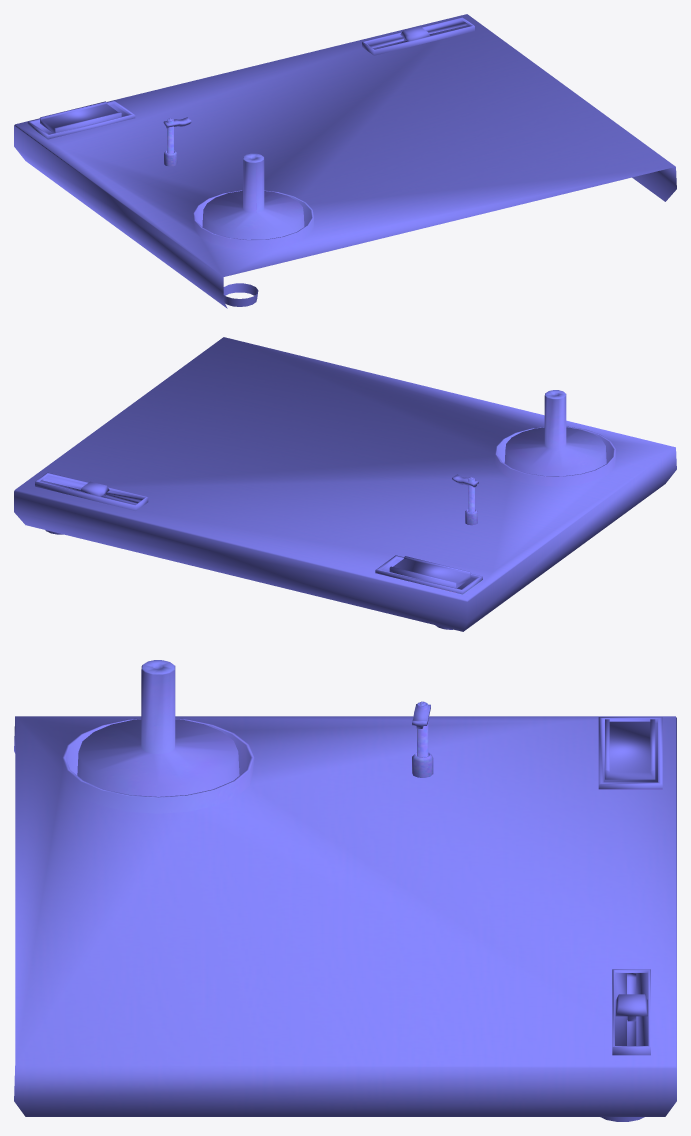
Rendered from RecordBase.fbx.
3 renders of one model, top to bottom at view 1: azimuth 30°, elevation 25°; view 2: azimuth 150°, elevation 25°; view 3: azimuth 270°, elevation 25°, orthographic. The views are drawn at different scales.
Parts seen in each view (by area): view 1: MappedRecordP; view 2: MappedRecordP; view 3: MappedRecordP.
Boxes of the visible parts, x1,y1,x2,y2 form: MappedRecordP: (14,14,676,308); MappedRecordP: (14,337,676,631); MappedRecordP: (14,660,676,1121).
Size of the model in its own units: 45.72 by 36.58 by 10.66.
